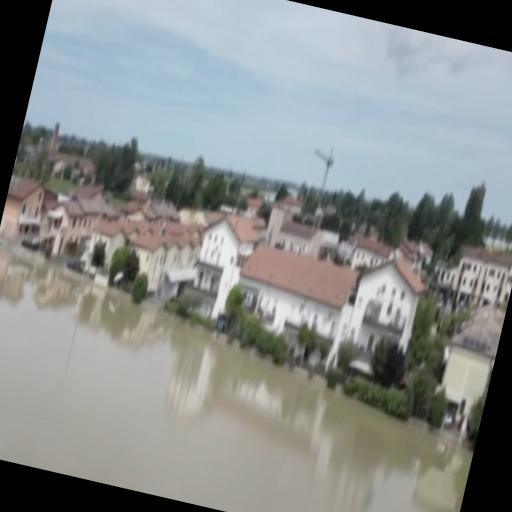flood: (0, 244, 473, 512)
house: (224, 238, 358, 366), (340, 249, 432, 377), (182, 202, 266, 333), (36, 184, 98, 272), (0, 173, 48, 256), (452, 244, 512, 308), (84, 216, 130, 272), (128, 228, 170, 286), (274, 219, 324, 257), (164, 227, 199, 272), (351, 238, 390, 270)
